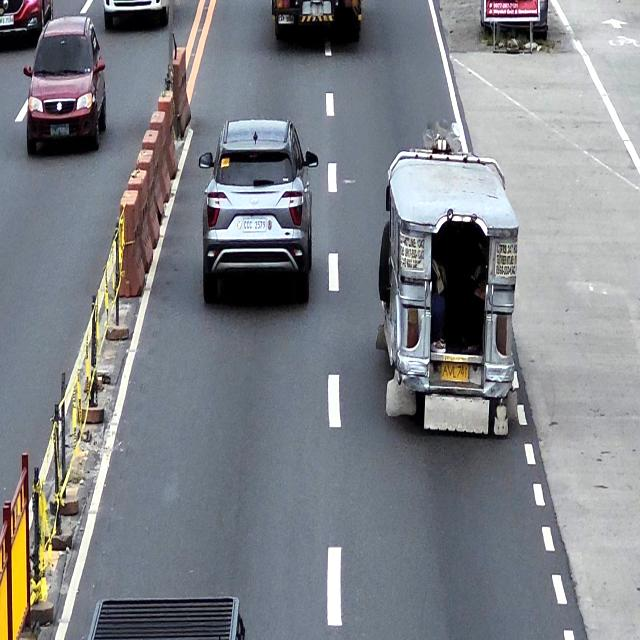Car: (198, 118, 319, 306), (23, 16, 106, 154), (0, 0, 54, 46)
Jeep: (376, 148, 520, 438)
License-Plate: (441, 363, 468, 381), (242, 218, 266, 234), (50, 125, 70, 138), (0, 16, 14, 26)
